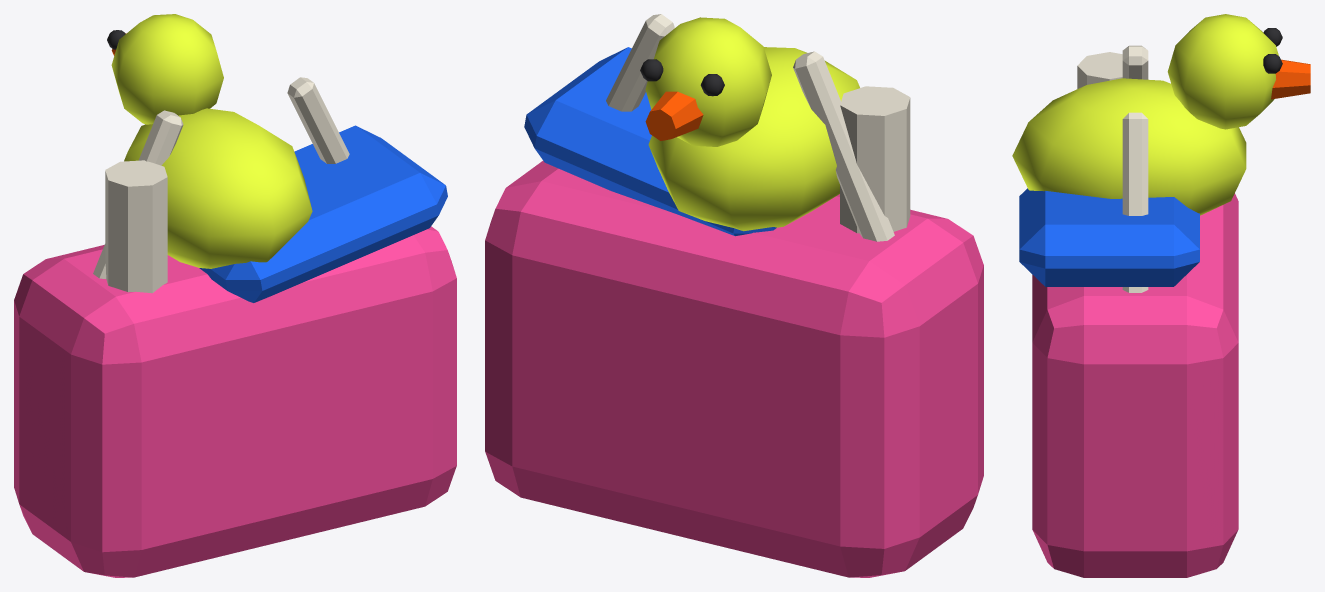
The model's file is relic_beach_bag.fbx.
3 renders of one model, left to right at view 1: azimuth 30°, elevation 25°; view 2: azimuth 150°, elevation 25°; view 3: azimuth 270°, elevation 25°, orthographic. The views are drawn at different scales.
Parts seen in each view (by area): view 1: Prop; view 2: Prop; view 3: Prop.
Part boxes in pixels (box(x1,y1,x2,y2)): Prop: box(14, 14, 456, 577); Prop: box(485, 14, 983, 577); Prop: box(1012, 14, 1310, 577).
Size of the model in its own units: 0.34 by 0.2316 by 0.407.
